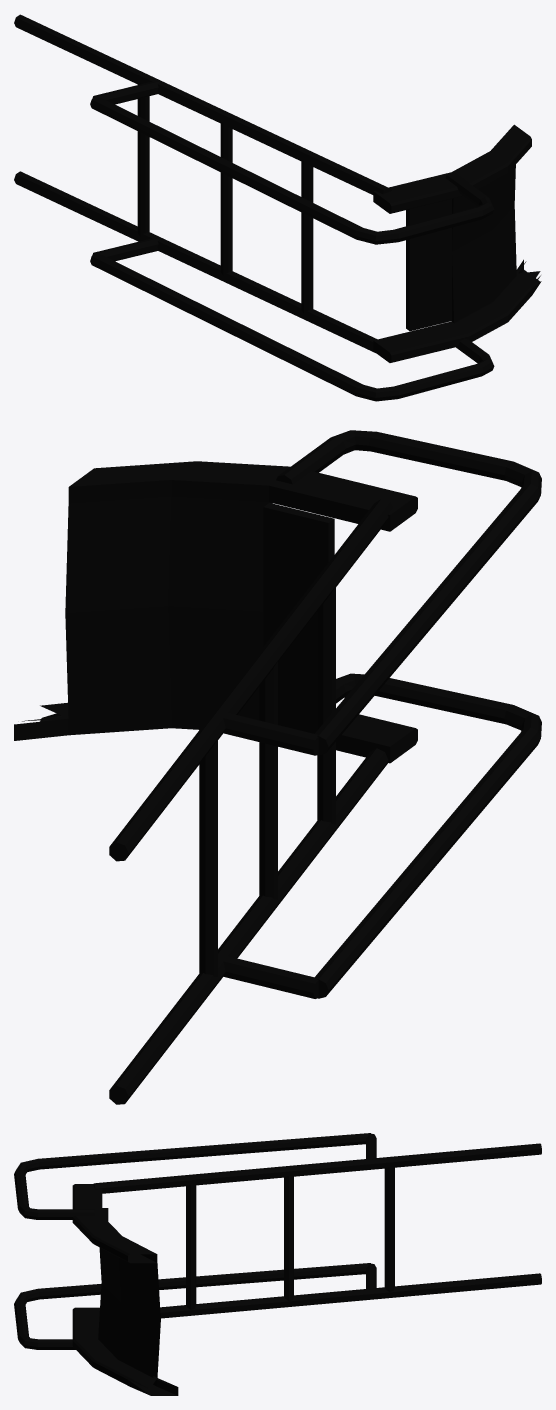
The picture shows the model from 3 angles, top to bottom: view 1: azimuth 30°, elevation 25°; view 2: azimuth 150°, elevation 25°; view 3: azimuth 270°, elevation 25°; orthographic projection. The views are drawn at different scales.
Bounding box in the file's own units: 1.06 × 0.538 × 1.83.
